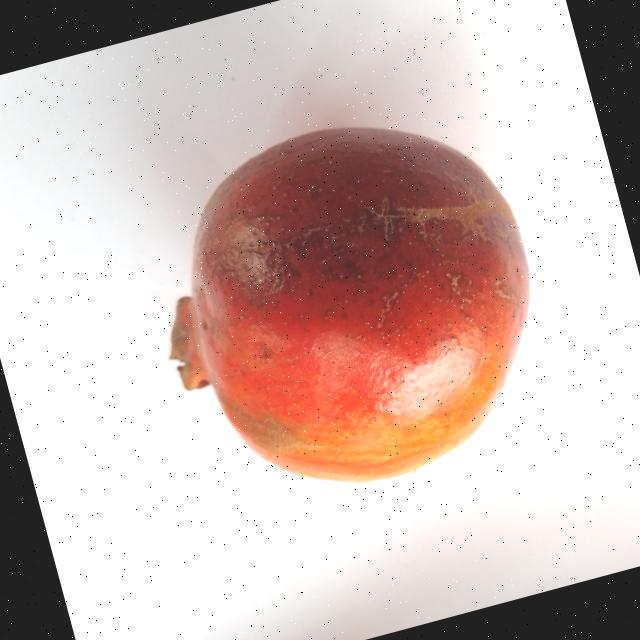Ripe: (110, 76, 580, 538)
